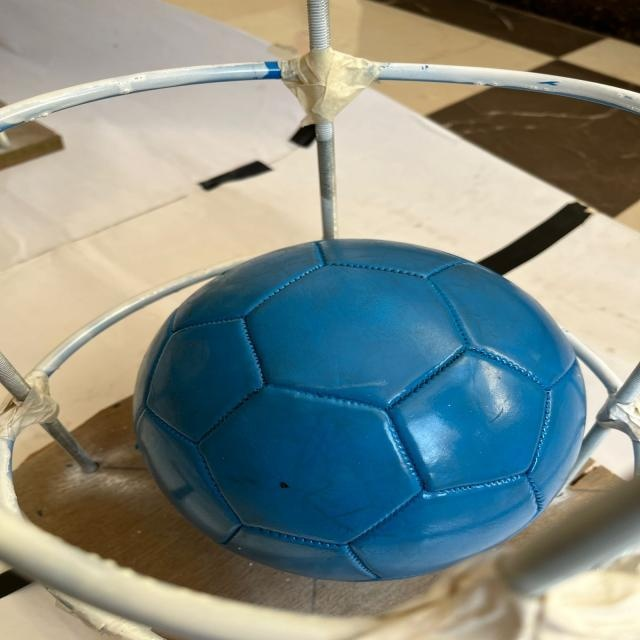blue_ball: (139, 236, 596, 574)
silo: (0, 2, 640, 640)
